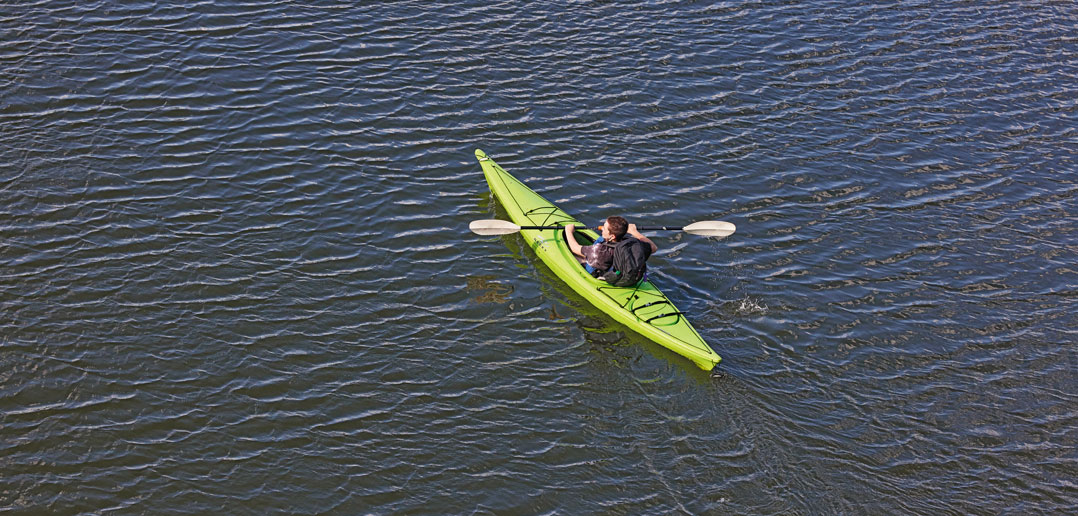kayaker: (467, 144, 739, 379)
